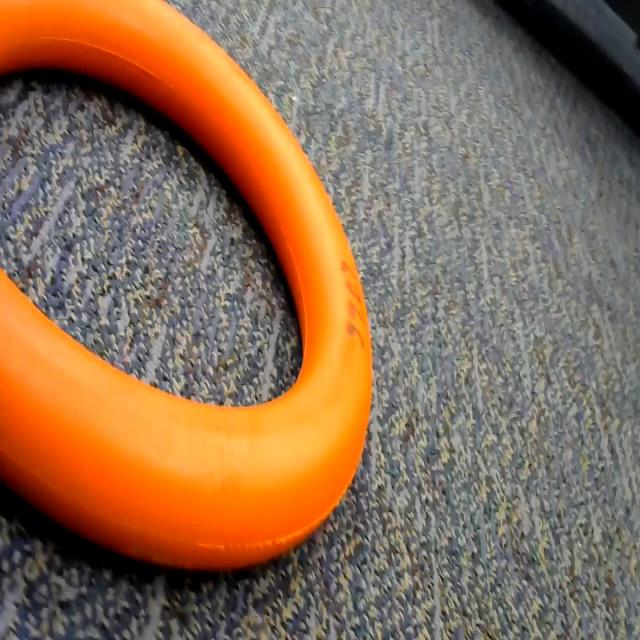note: (0, 0, 381, 602)
